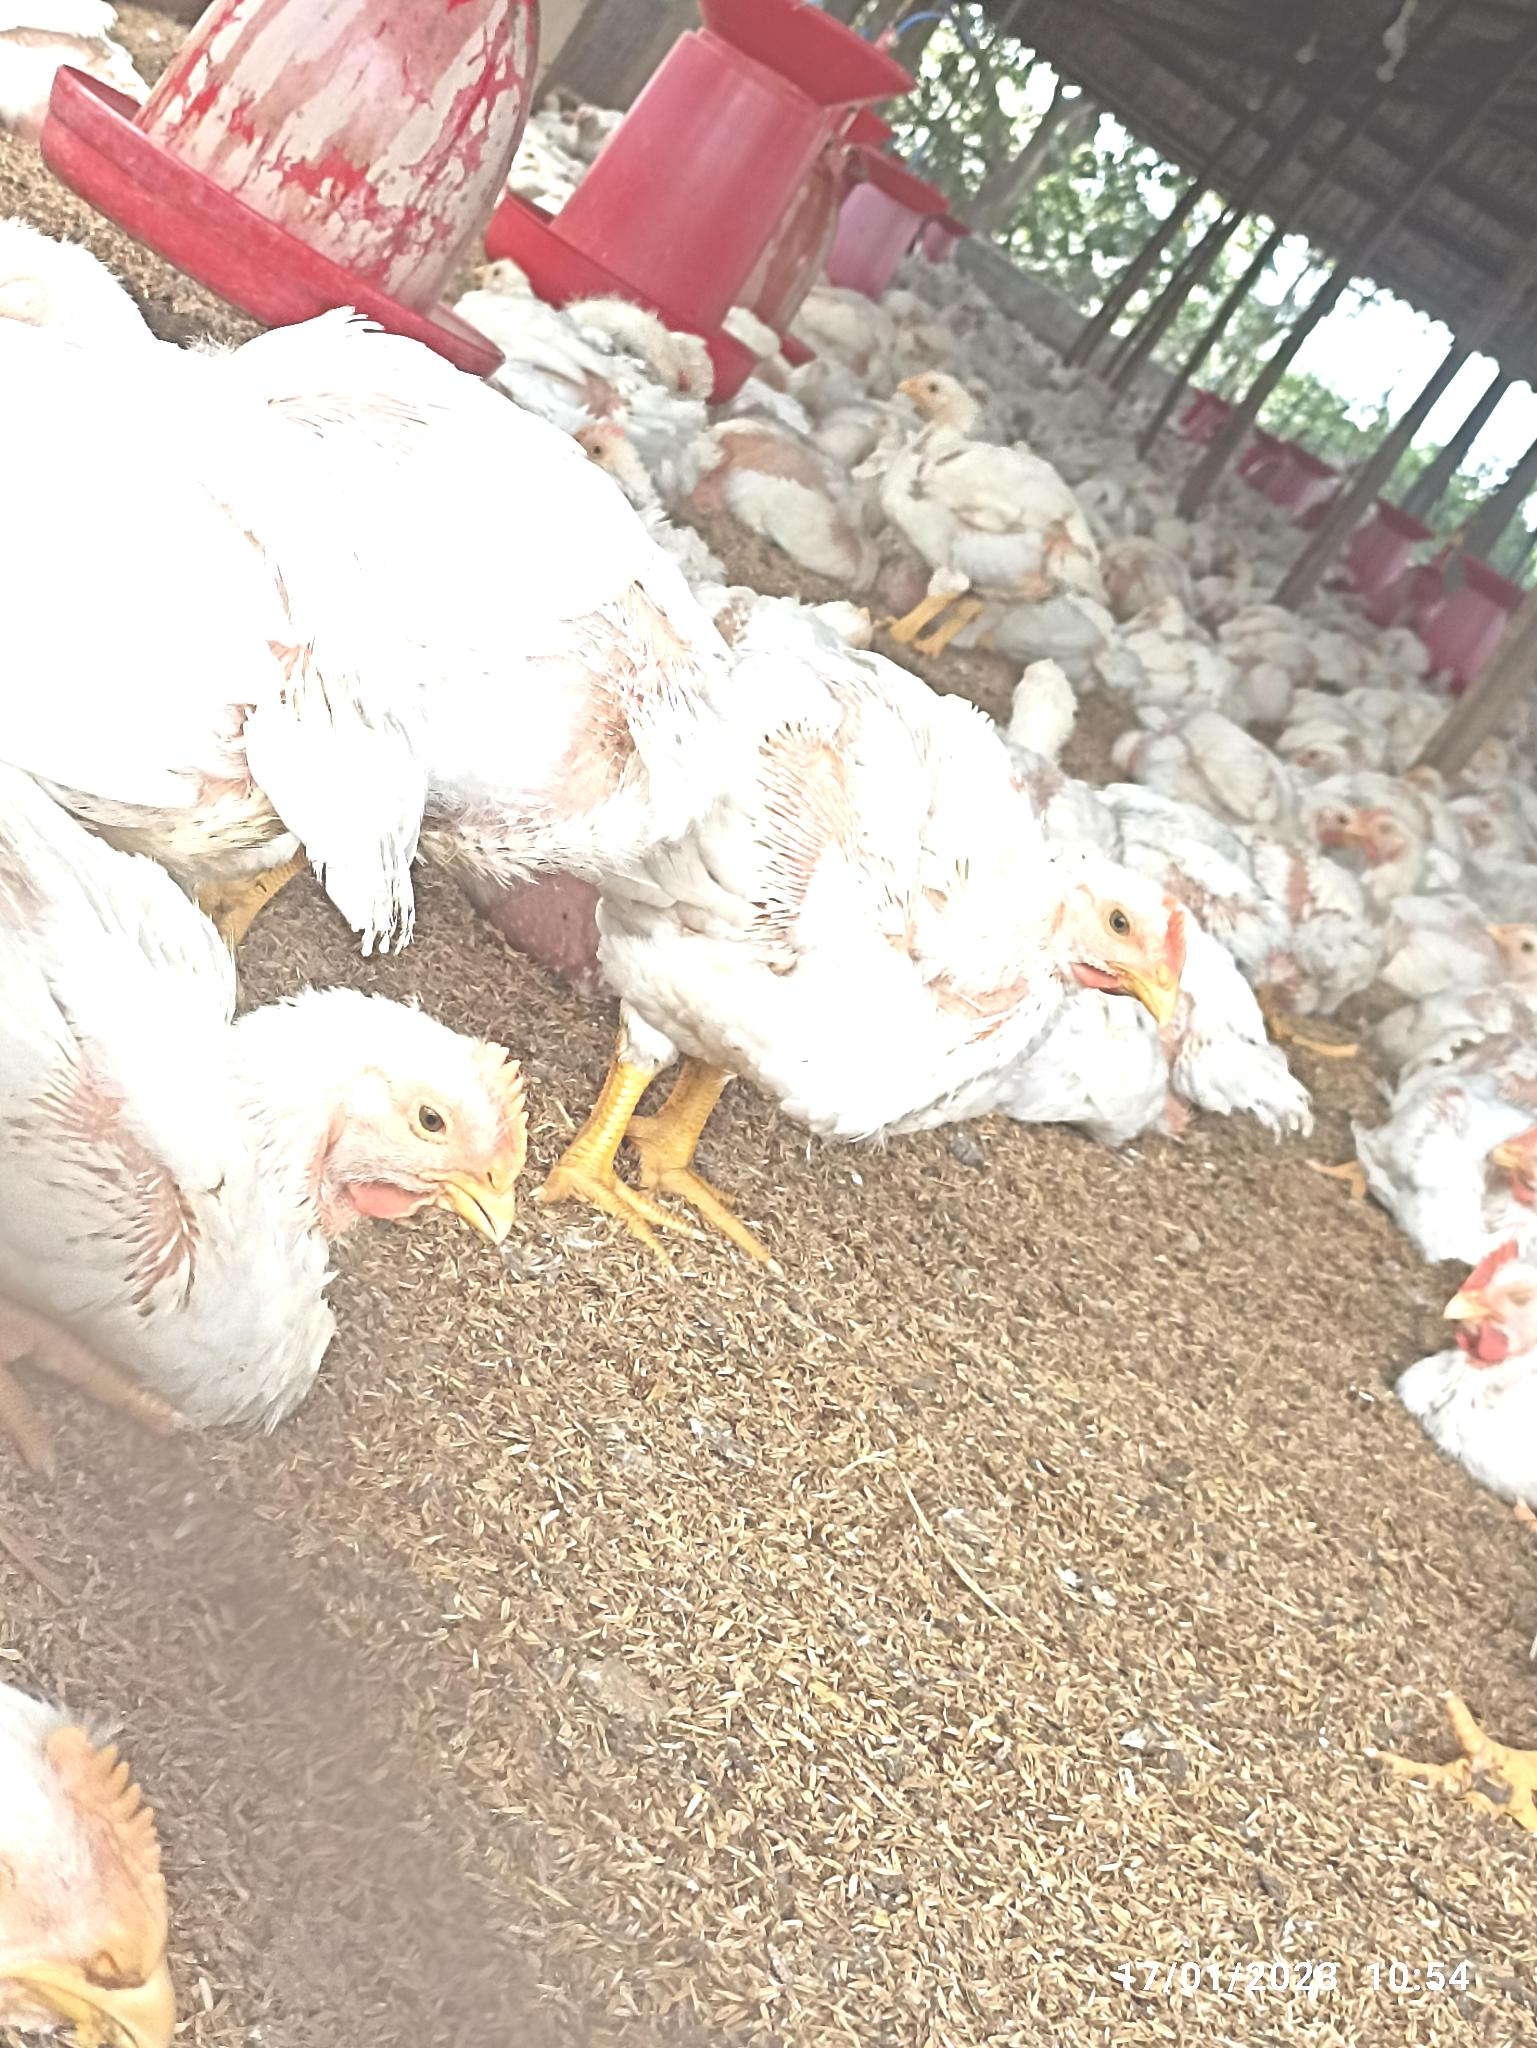Pollos: (625, 634, 1171, 1159), (2, 901, 534, 1409), (2, 345, 413, 875), (893, 370, 1103, 607), (450, 253, 659, 395), (1174, 710, 1371, 851)
